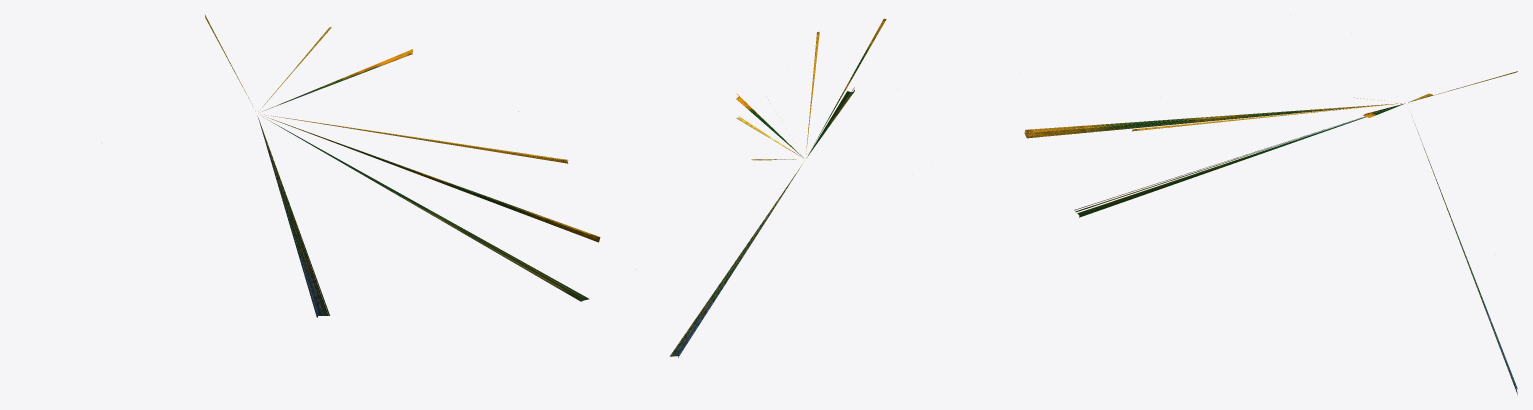
The model's file is nature_flowers_01.glb.
3 views of the same model, side by side, from view 1: azimuth 30°, elevation 25°; view 2: azimuth 150°, elevation 25°; view 3: azimuth 270°, elevation 25° (orthographic). The views are drawn at different scales.
Visible parts, largest first — view 1: geometry_0; view 2: geometry_0; view 3: geometry_0.
Boxes of the visible parts, box(x1,y1,x2,y2) form: geometry_0: box(204, 14, 600, 317); geometry_0: box(669, 18, 886, 357); geometry_0: box(1024, 71, 1517, 395).
Size of the model in its own units: 0.6265 by 0.6115 by 0.9042.
1 material, 1 textured.
